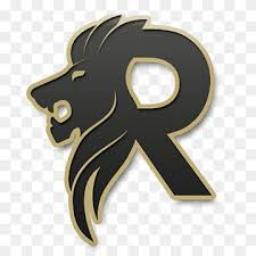r: (20, 8, 228, 244)
